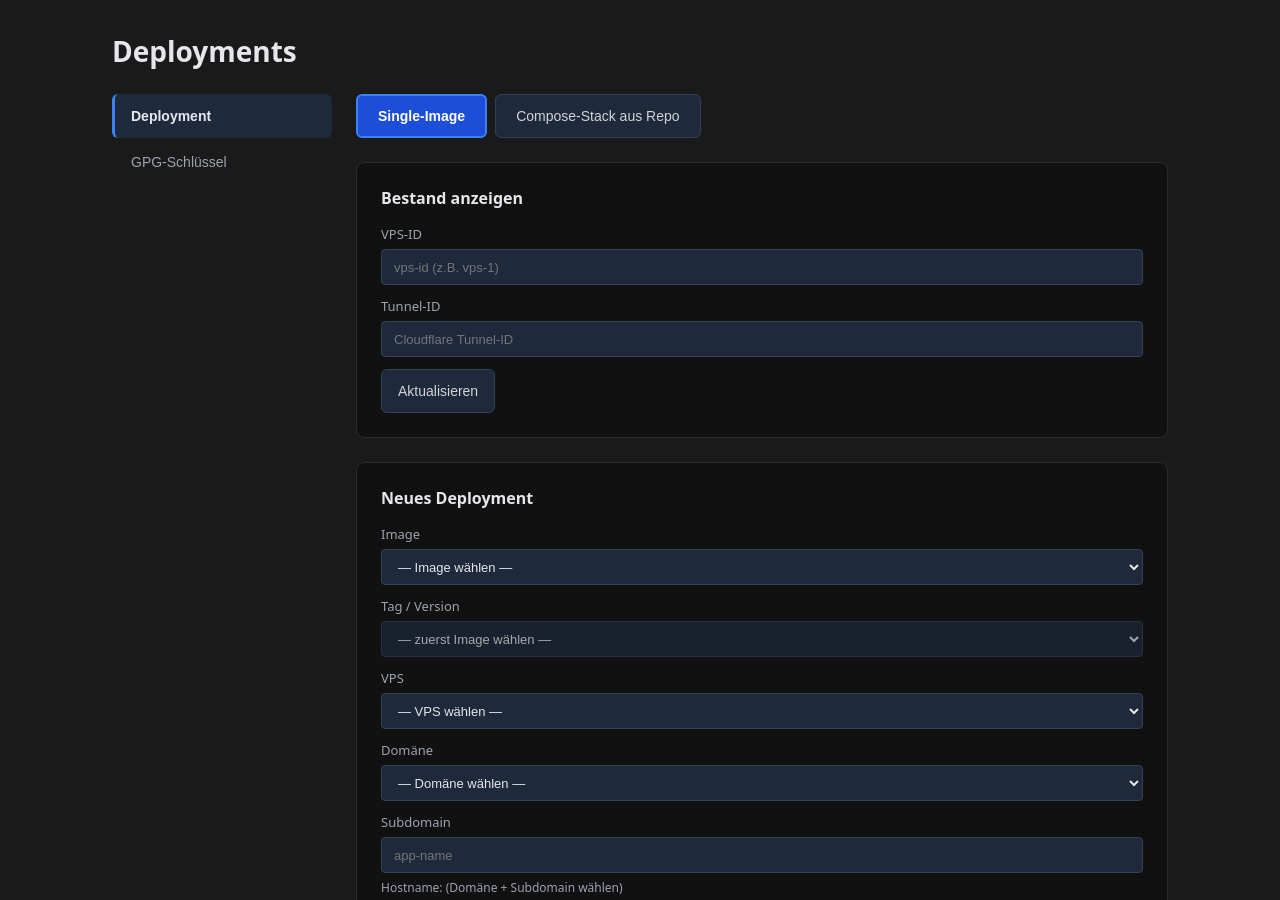
Test: AC9 — Readiness-Badge: Text je Zustand › shows "⏳ VPS wird eingerichtet (Docker installieren)…" for provisioning state
This screenshot has width=1280, height=900.
Select "vps-1" in the dropdown with id "deploy-vps-select" at (762, 711), box [381,693,1143,729]
Wait 100 ms
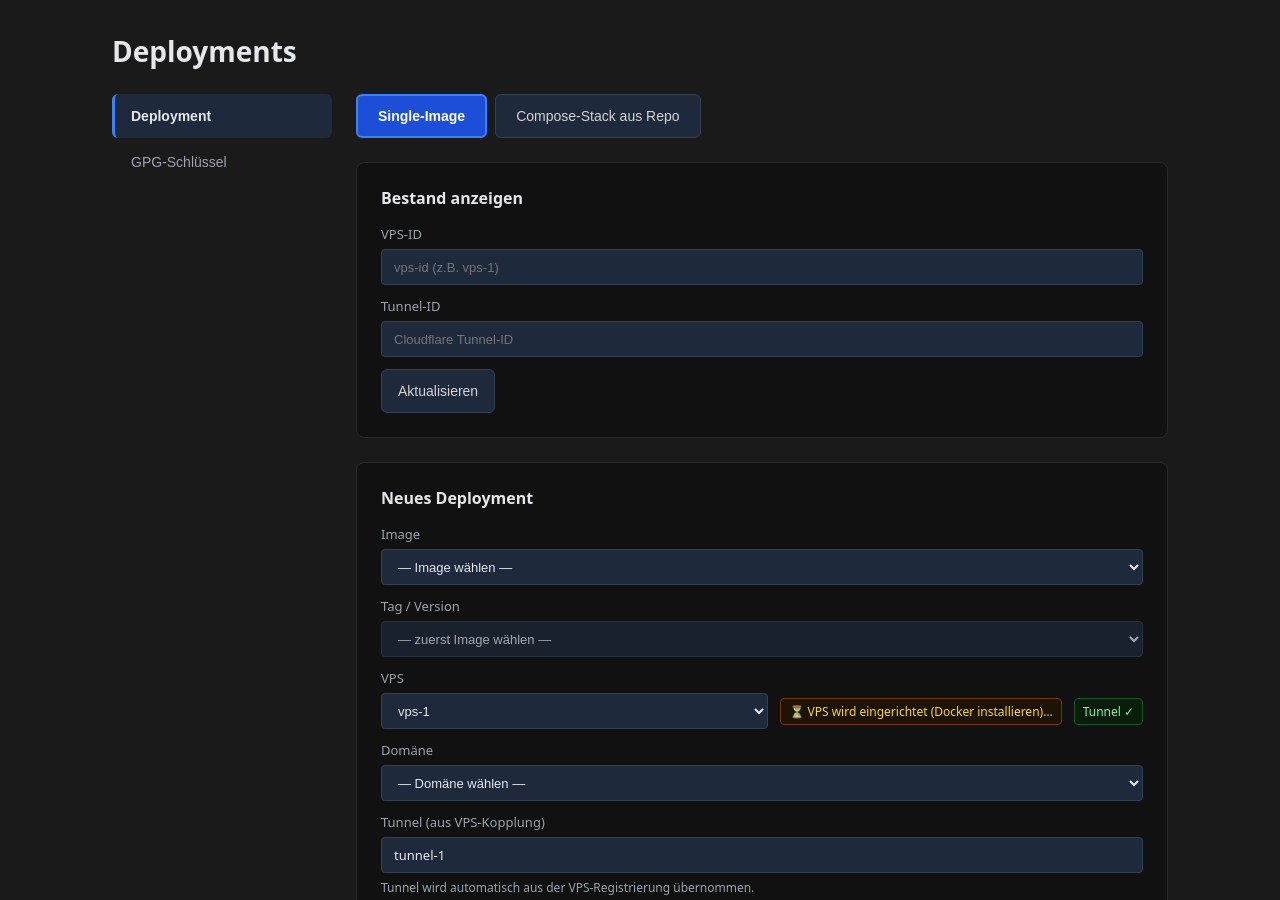
Check: the message "⏳ VPS wird eingerichtet (Docker installieren)…" is shown, box [780,698,1062,724]
